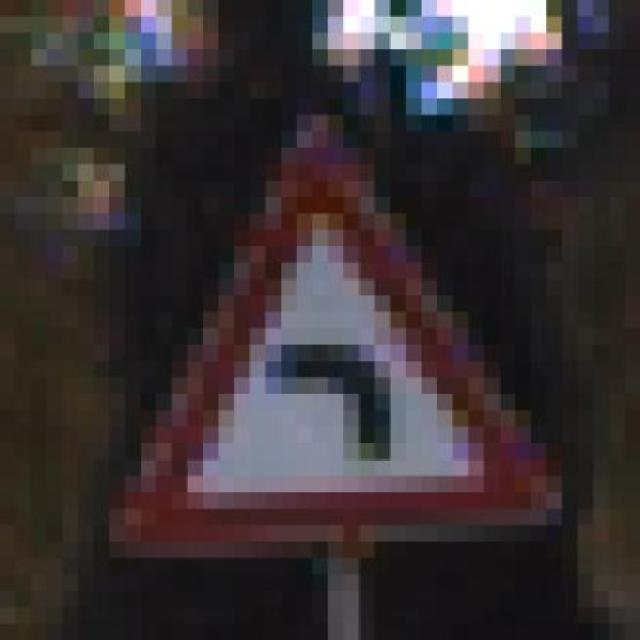Dangerous Left Curve Ahead: (78, 66, 578, 574)
